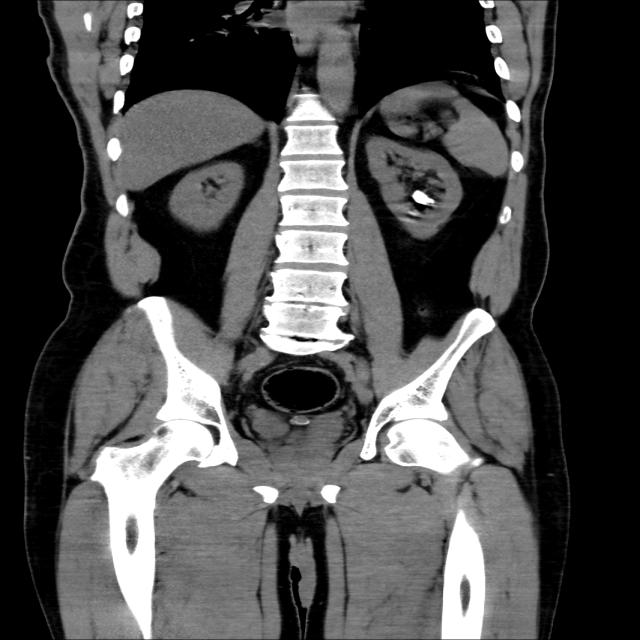kidneystone: (411, 190, 435, 205)
